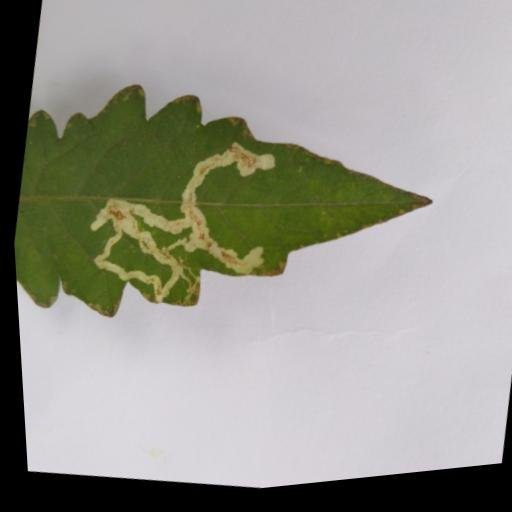Leaf_Miner: (3, 39, 456, 384)
